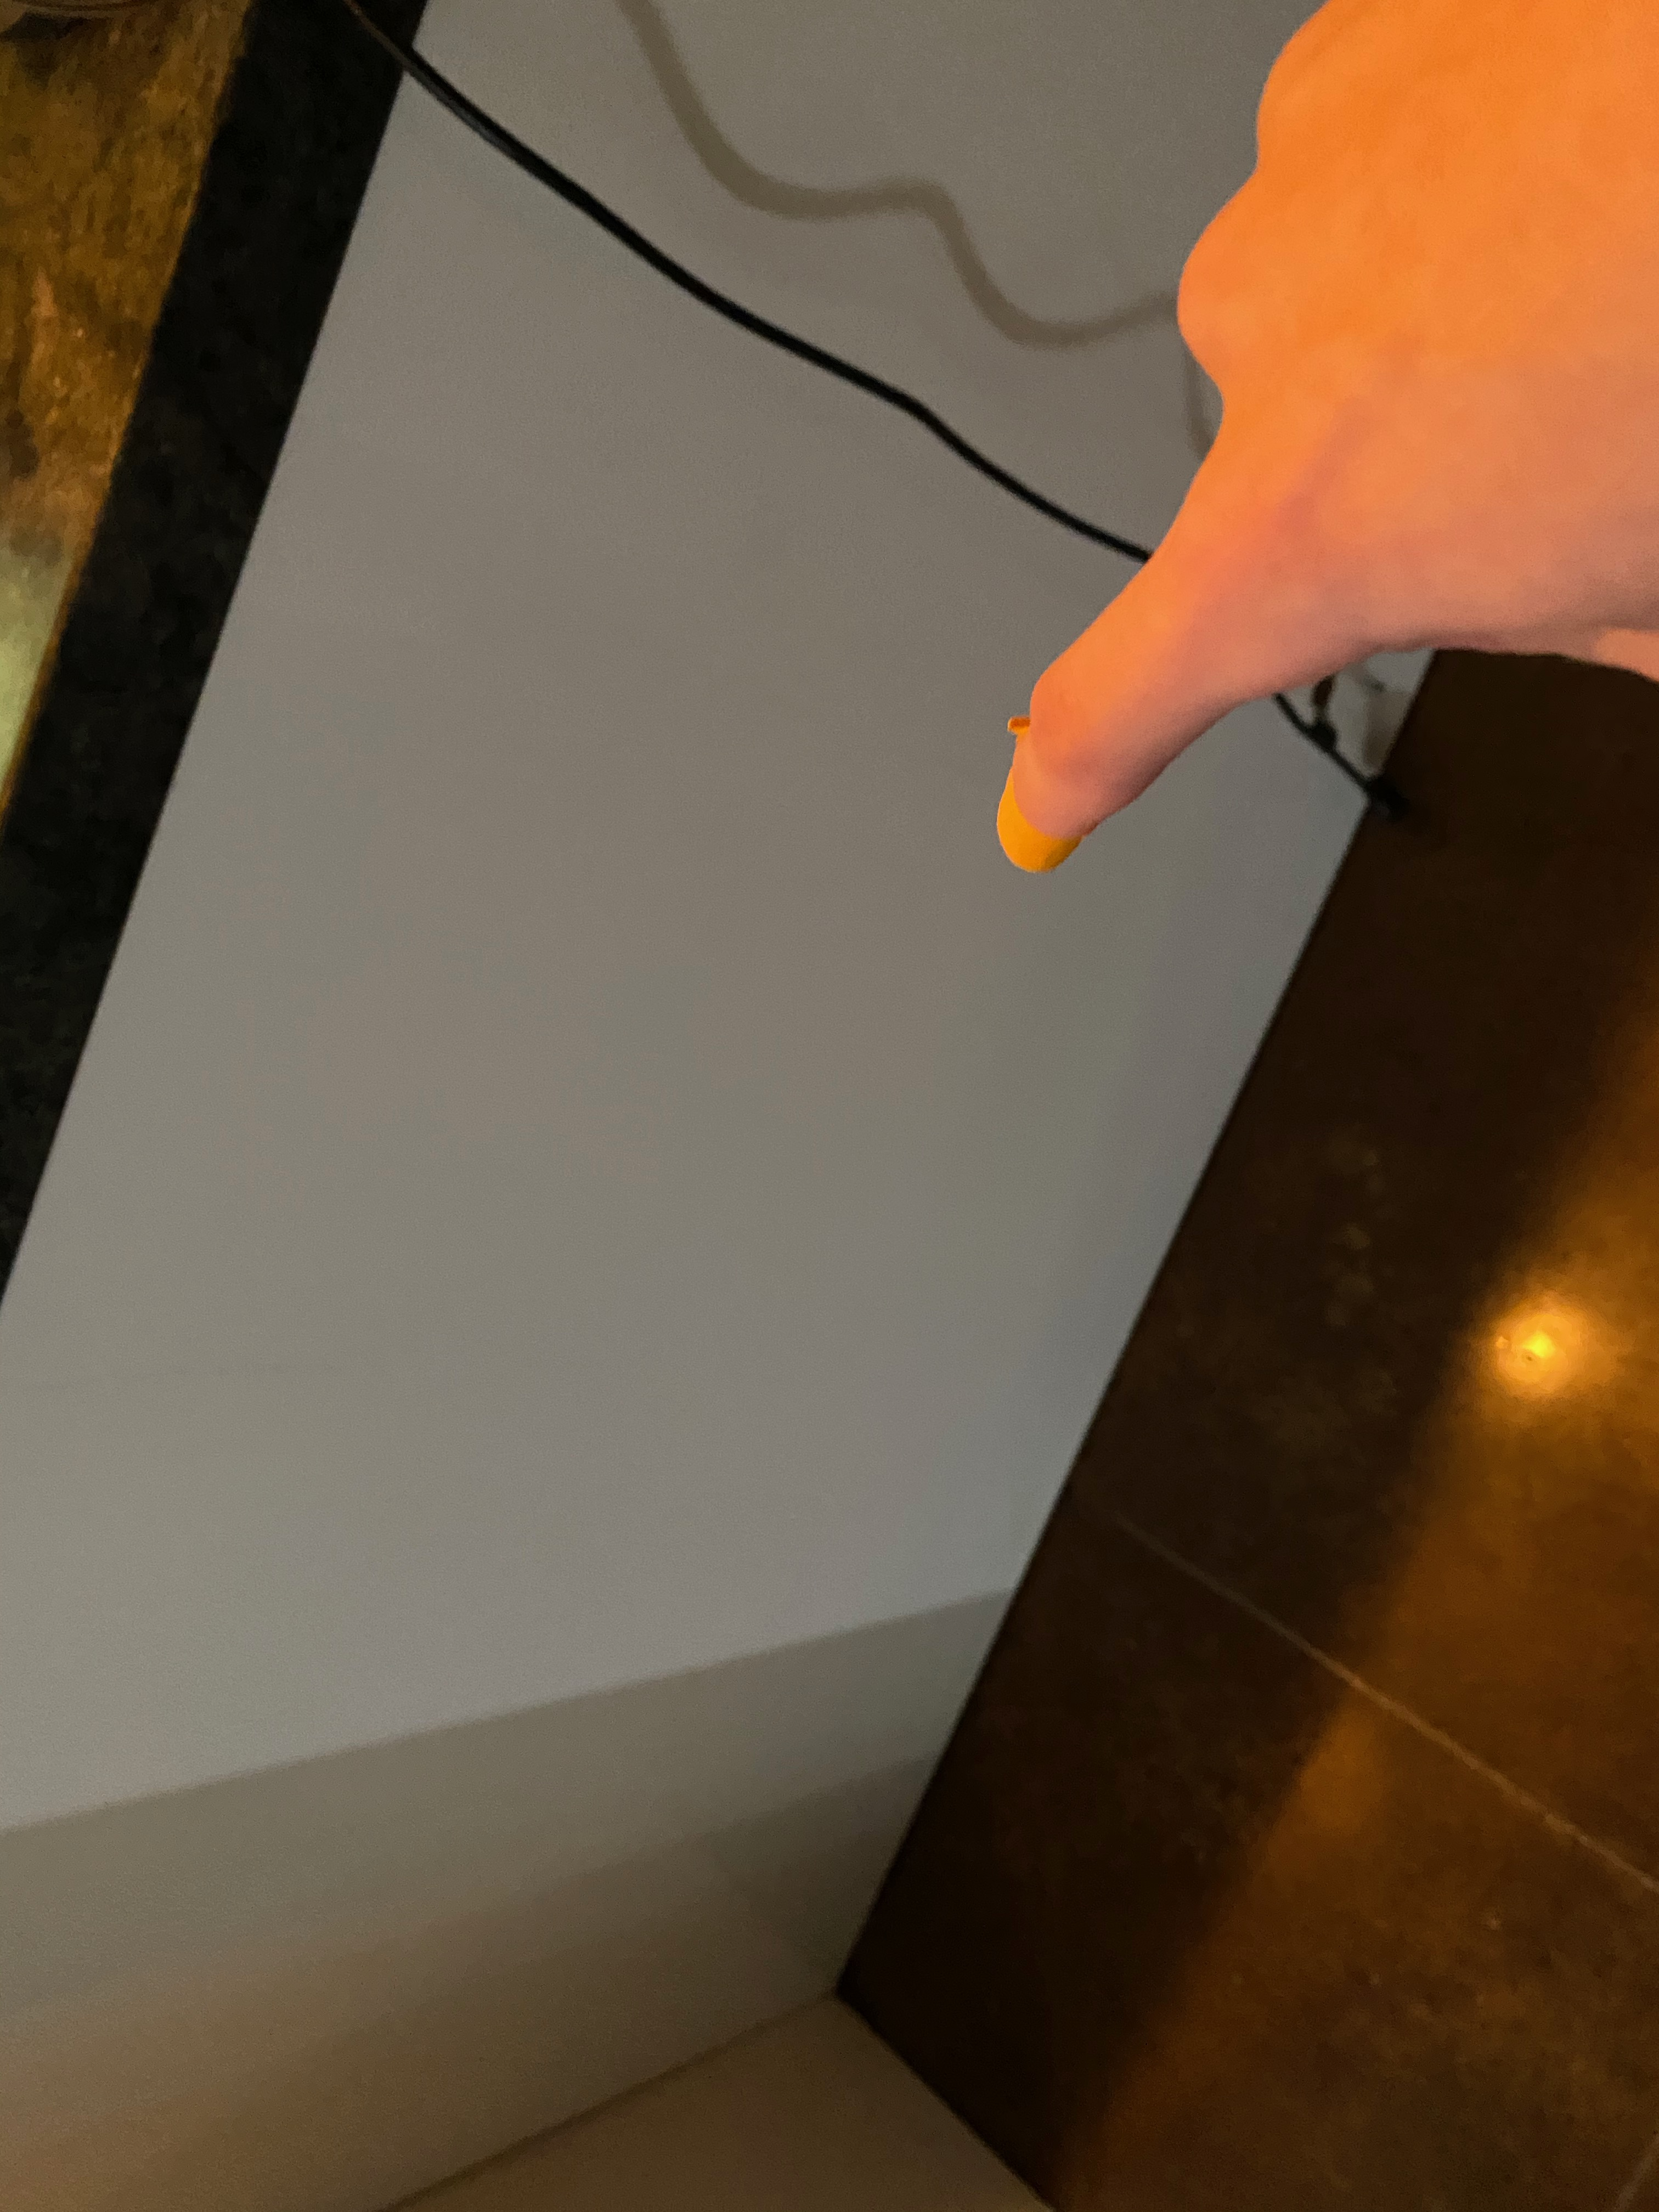fingertip: (986, 735, 1098, 914)
